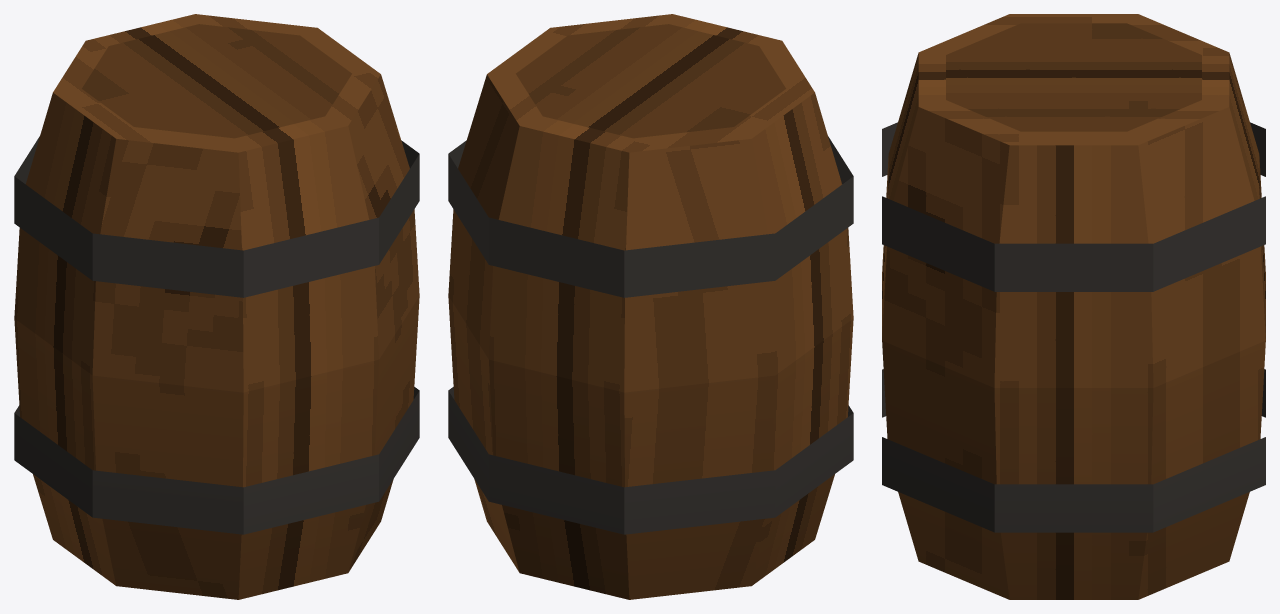
The model's file is int_barrel.glb.
3 views of the same model, side by side, from view 1: azimuth 30°, elevation 25°; view 2: azimuth 150°, elevation 25°; view 3: azimuth 270°, elevation 25° (orthographic).
Visible parts, largest first — view 1: int_barrel; view 2: int_barrel; view 3: int_barrel.
Boxes of the visible parts, x1=… form: int_barrel: x1=14, y1=14, x2=419, y2=599; int_barrel: x1=448, y1=14, x2=853, y2=599; int_barrel: x1=882, y1=14, x2=1265, y2=599.
Size of the model in its own units: 0.6504 by 0.854 by 0.6504.
Materials: 2 (1 with a texture image).
